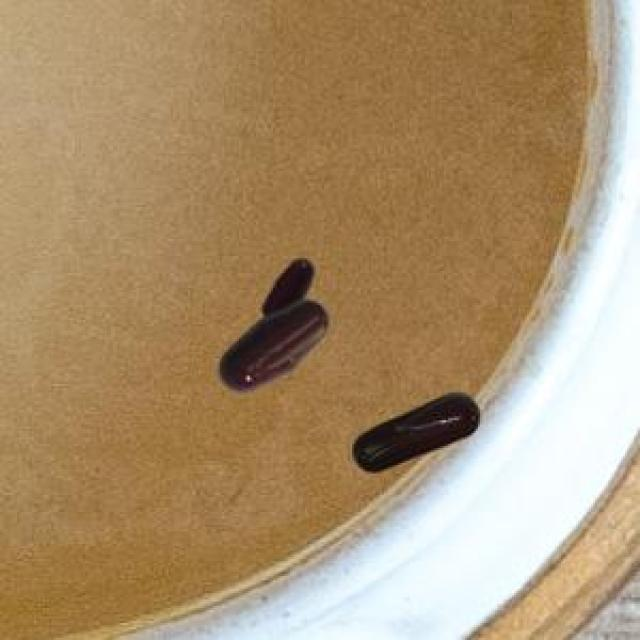DayZinc: (217, 247, 341, 399), (346, 382, 488, 484)
